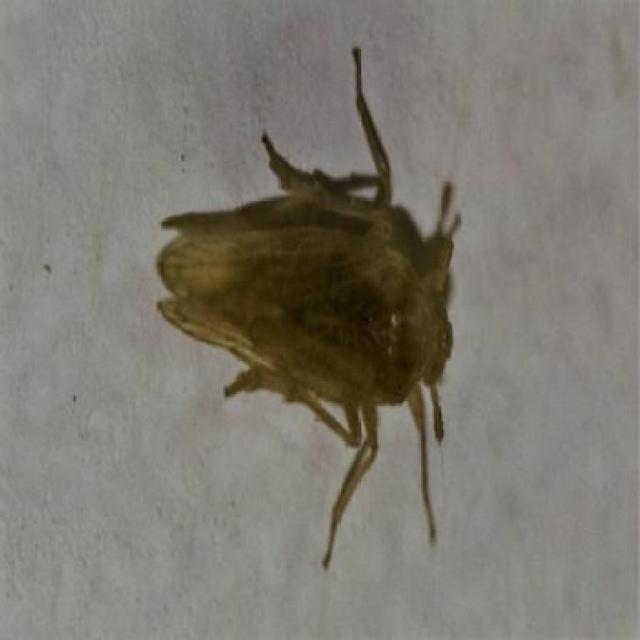brown-planthopper: (155, 132, 463, 516)
